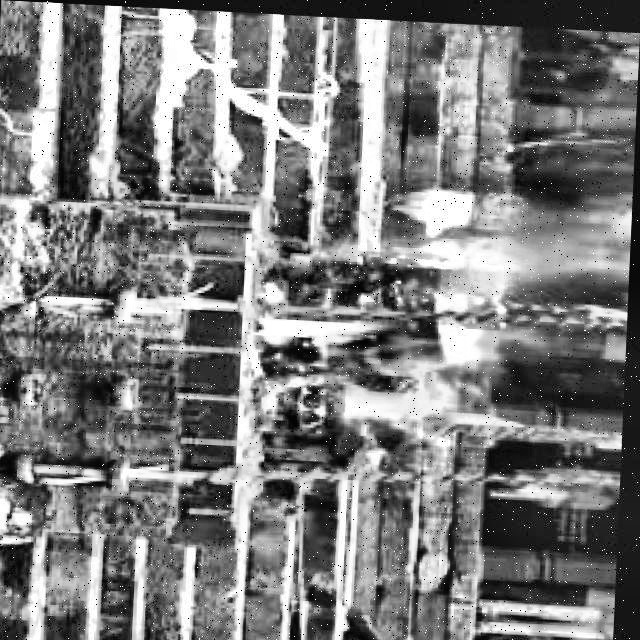Fire: (252, 308, 498, 428)
